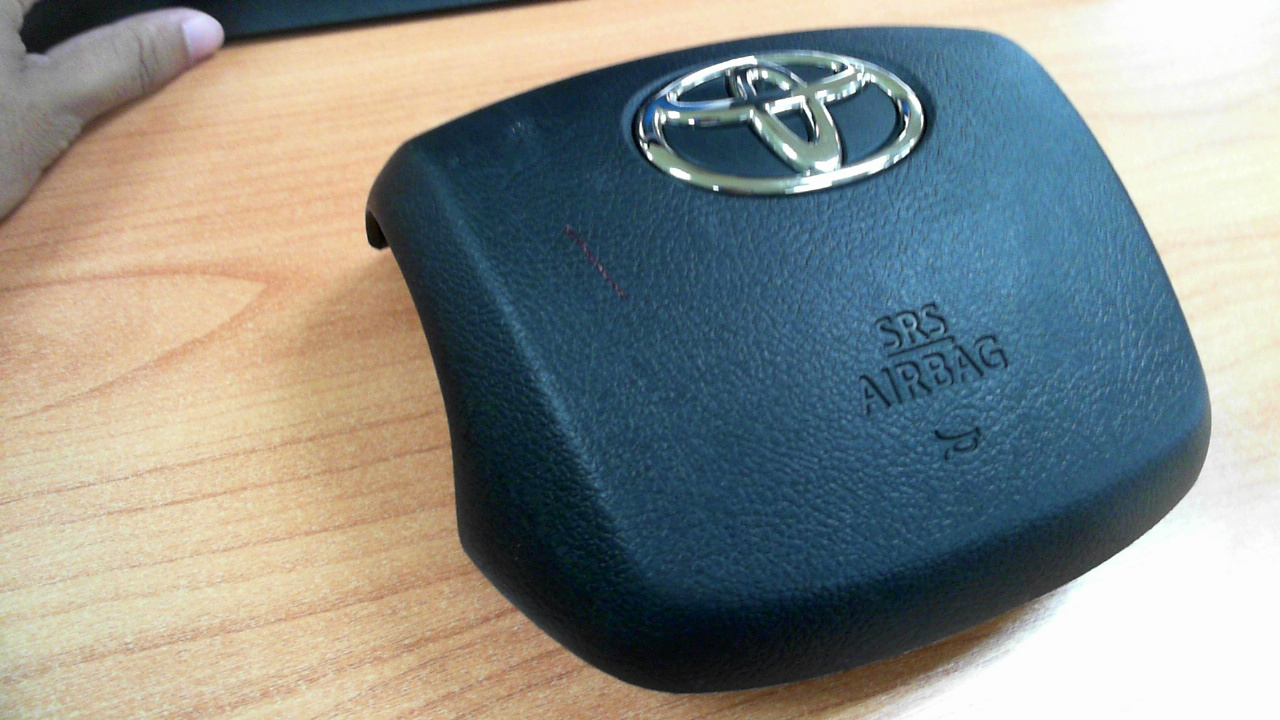Airbag: (366, 26, 1212, 696)
Toyota: (638, 49, 924, 195)
